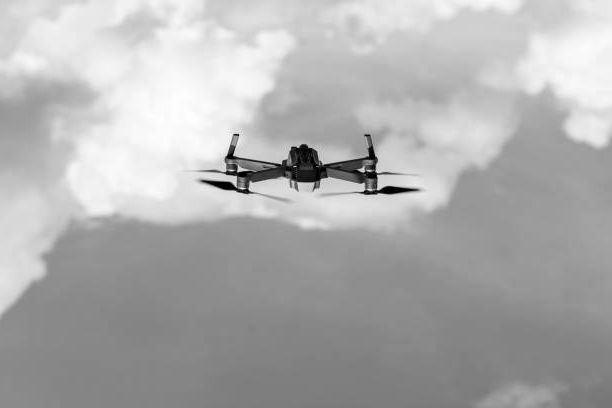Drone: (183, 125, 428, 206)
